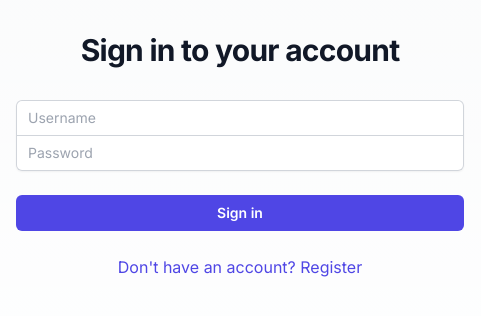
Test: LoginPage › shows error for non-existent user (invalid credentials)
Type "ghostuser" into the field with placeholder "Username" at (240, 118), box [16,100,464,136]
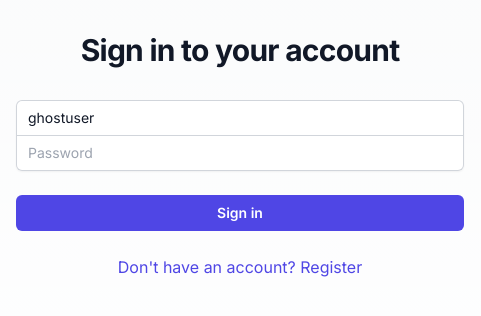
Type "wrongpass" into the password field with placeholder "Password" at (240, 152), box [16,134,464,170]
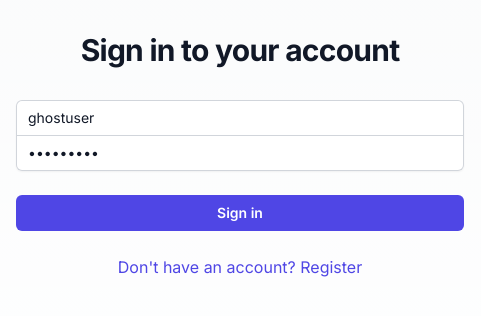
Click the button "Sign in" at (240, 212), box [16,194,464,230]
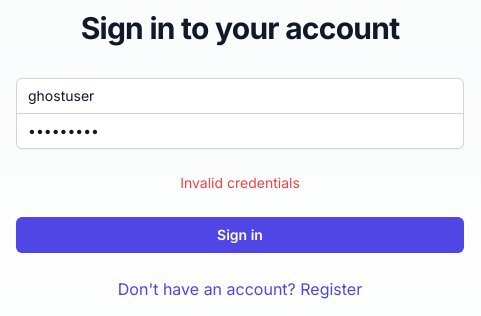
Now the text "Invalid credentials" is shown, box [180,174,300,190]
